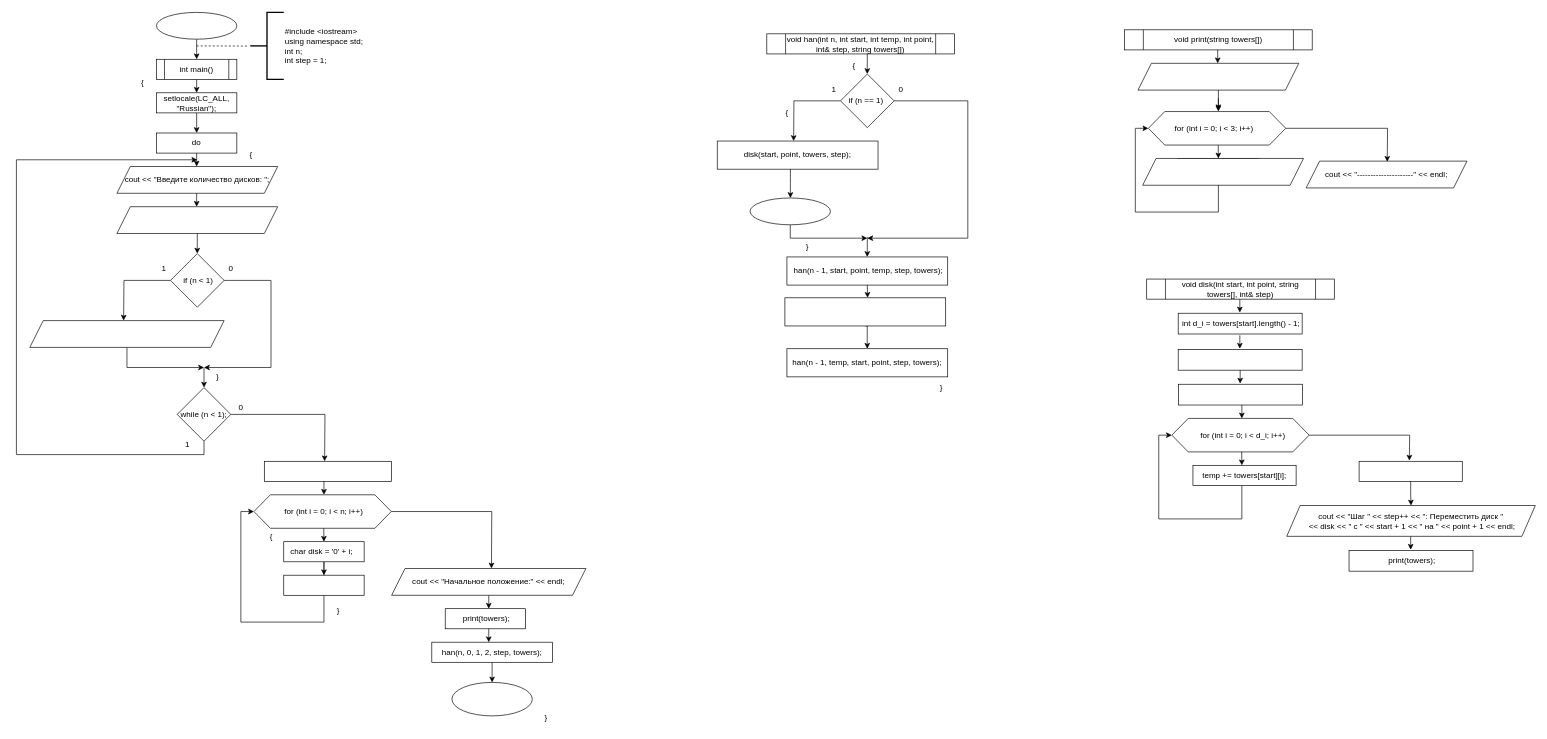
This 1547x739 diagram has some shape labels left out. Each missing label, with the box of its shape:
char disk = towers[start][d_i];: (1178, 349, 1302, 370)
cin >> n;: (116, 206, 278, 233)
cout << "Некорректное число дисков." << endl;: (29, 320, 224, 347)
cout << "Состояние стержней:" << endl;: (1137, 63, 1299, 90)
cout << i + 1 << ": " << towers[i] << endl;: (1142, 158, 1303, 185)
disk(start, point, towers, step): (784, 297, 946, 326)
return 0;: (451, 682, 532, 716)
return;: (749, 197, 830, 225)
string temp = "";: (1178, 384, 1302, 405)
string towers[3] = { "", "", "" };: (264, 461, 392, 481)
towers[0] += disk;: (283, 575, 364, 595)
towers[start] = temp;: (1358, 461, 1462, 481)
Начало: (156, 12, 237, 39)
